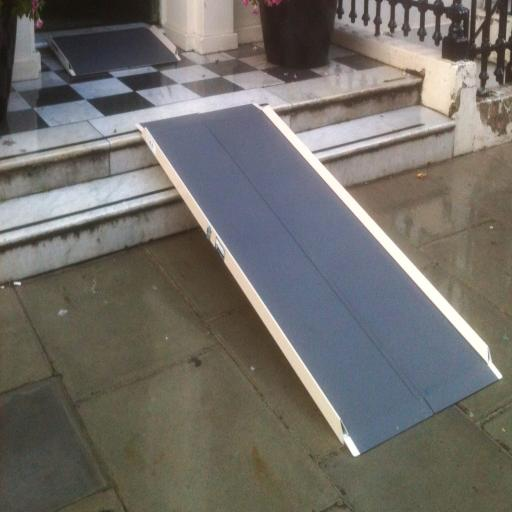ramp: (136, 112, 500, 456)
